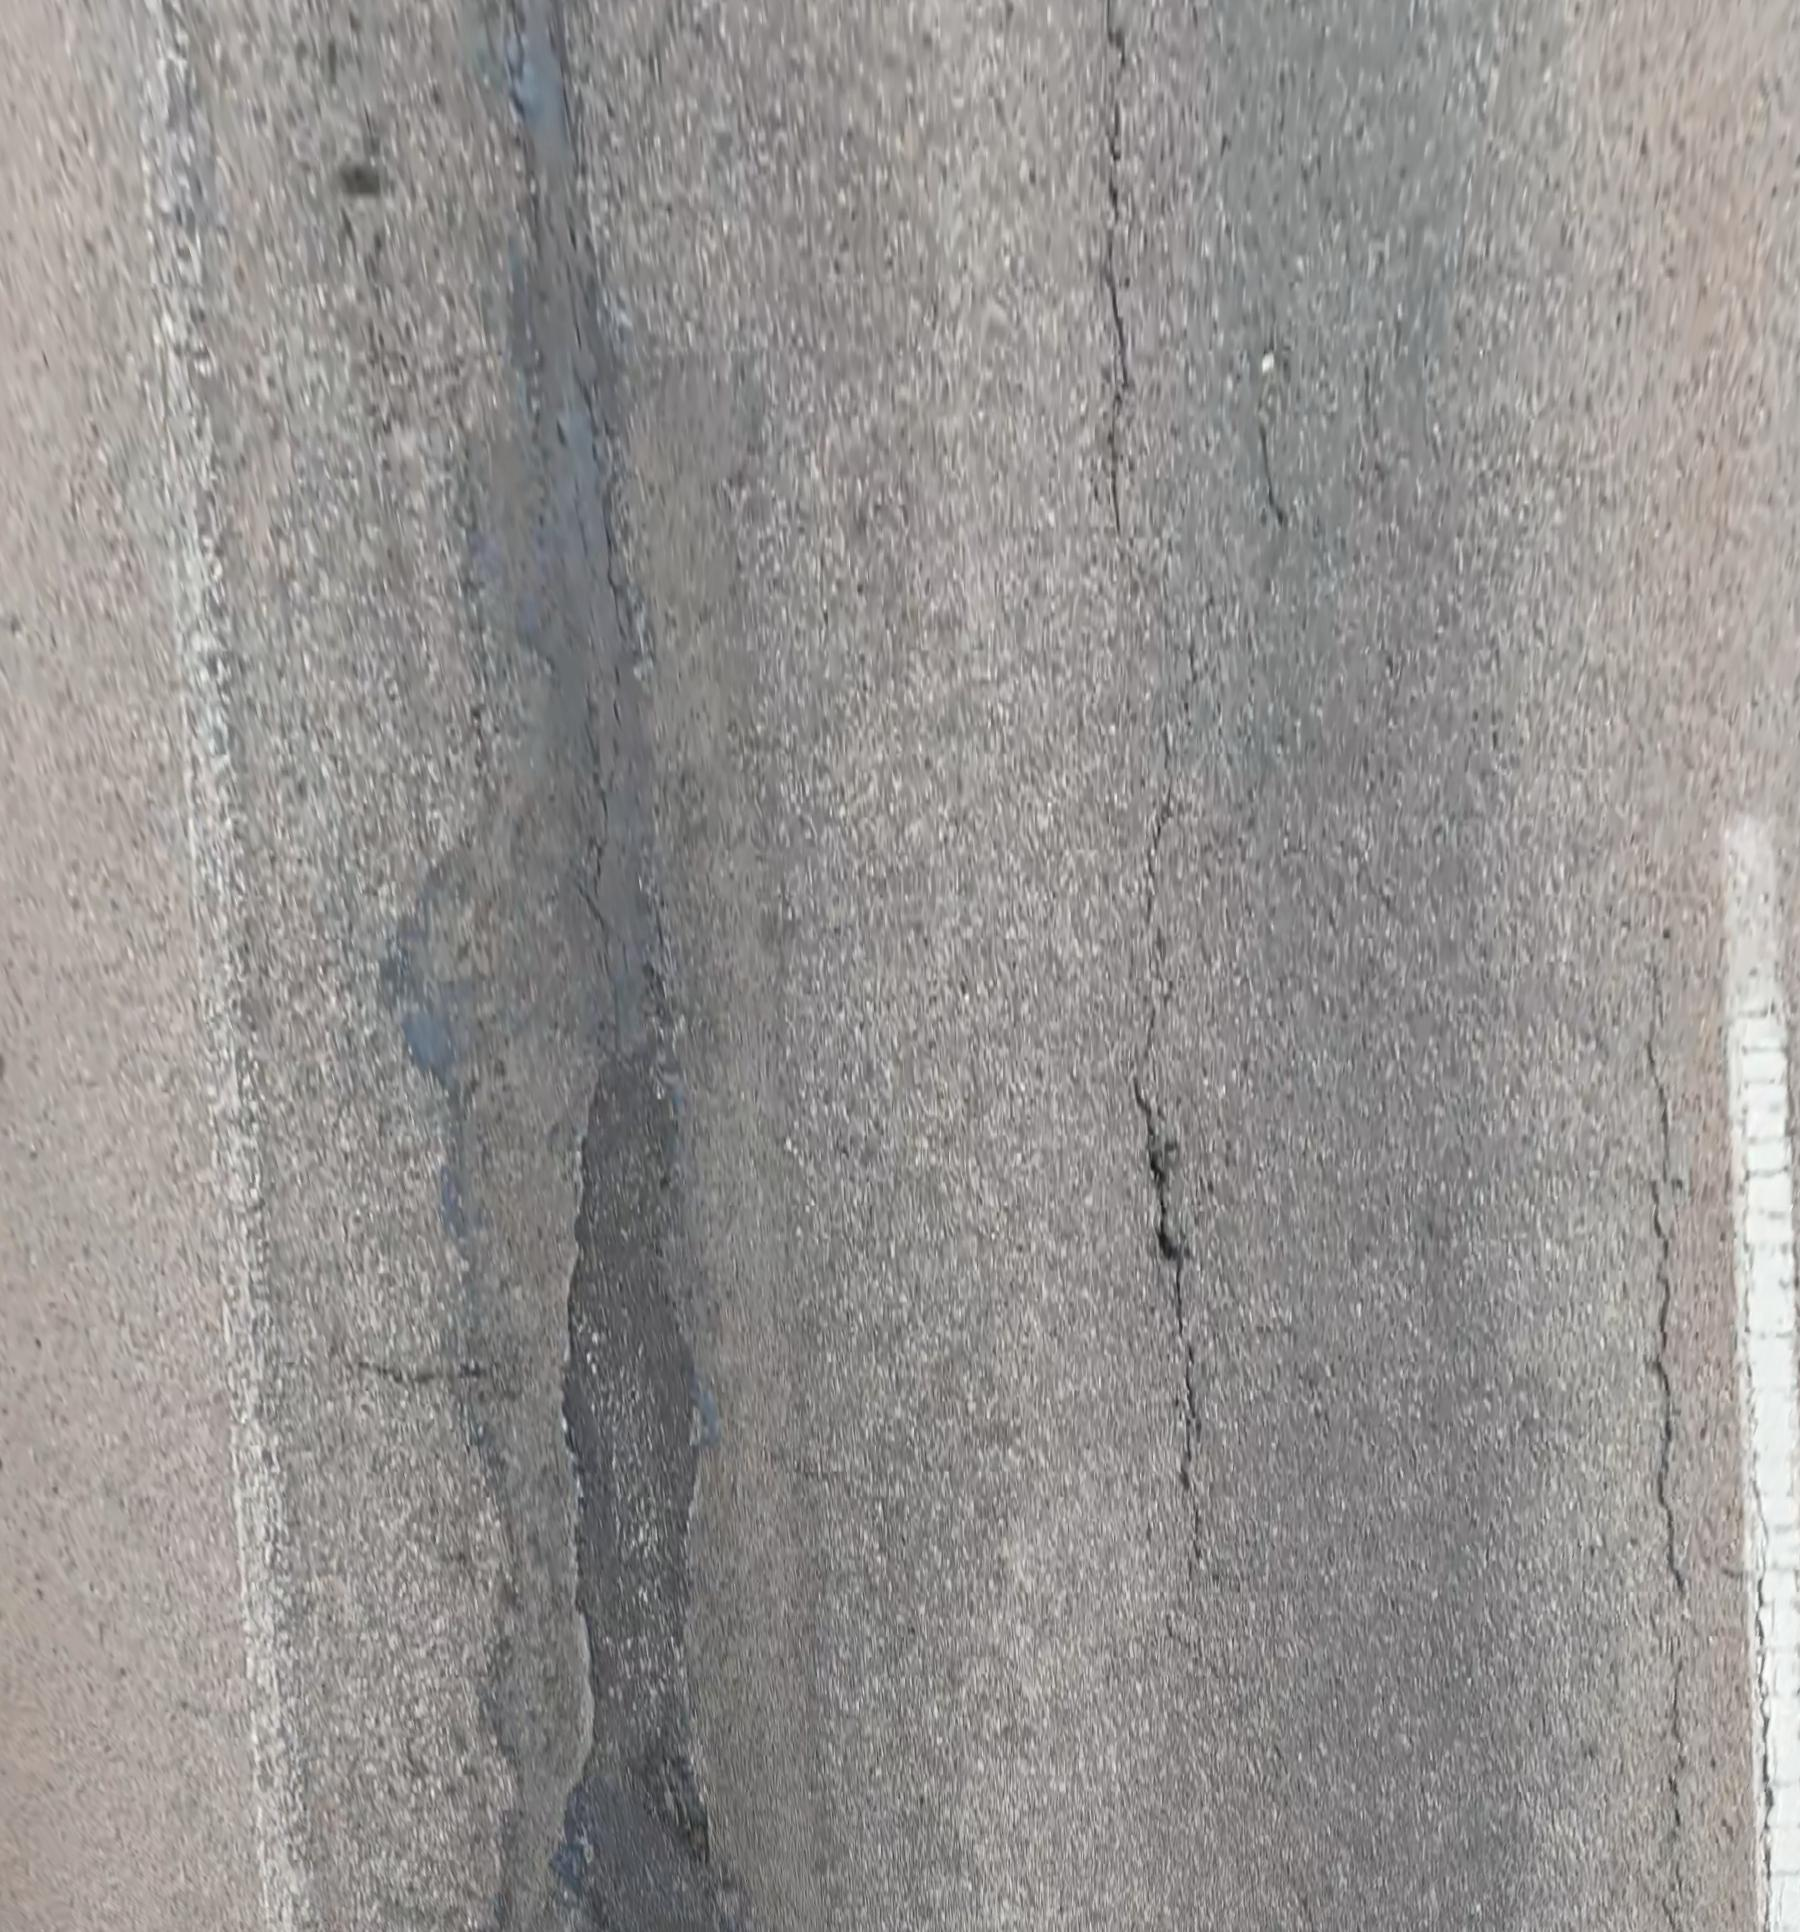pothole_patch_good: (557, 1046, 726, 1932)
pothole_patch_poor: (381, 210, 741, 1932)
